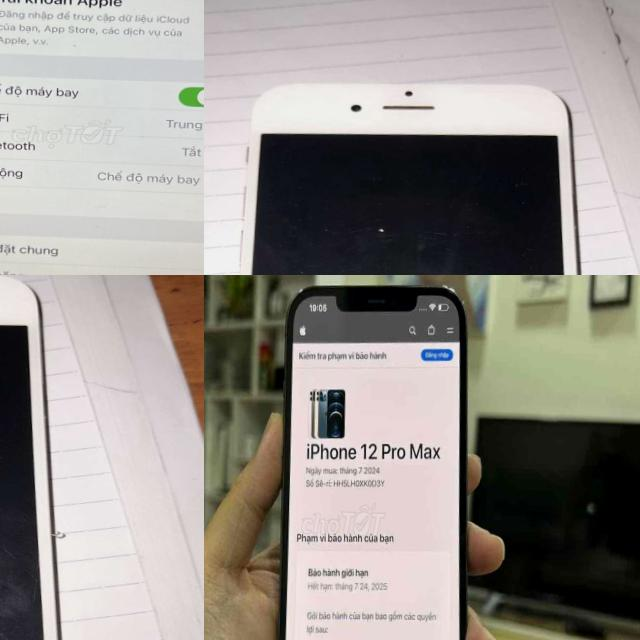gen_11: (0, 0, 204, 275)
gen_12_13: (269, 275, 484, 640)
gen_6: (238, 83, 578, 275), (0, 275, 59, 640)
